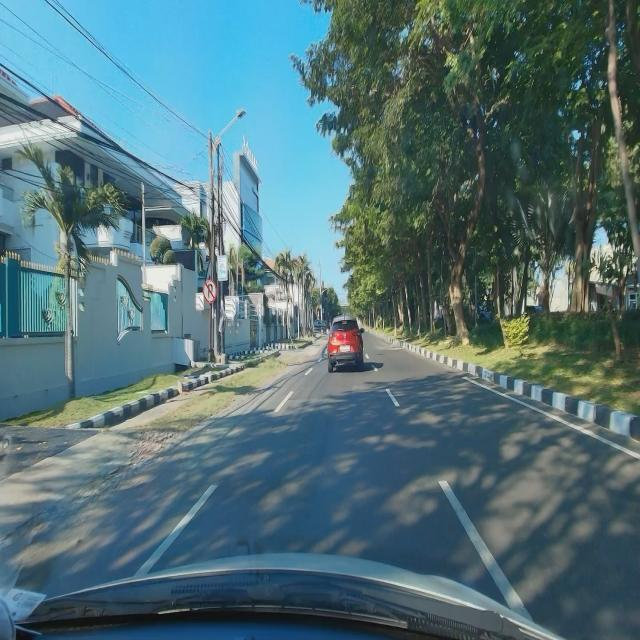car: (326, 314, 366, 373)
